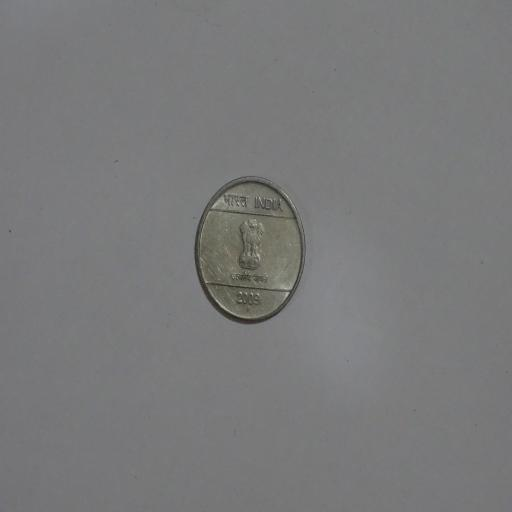rupee1: (193, 176, 306, 323)
